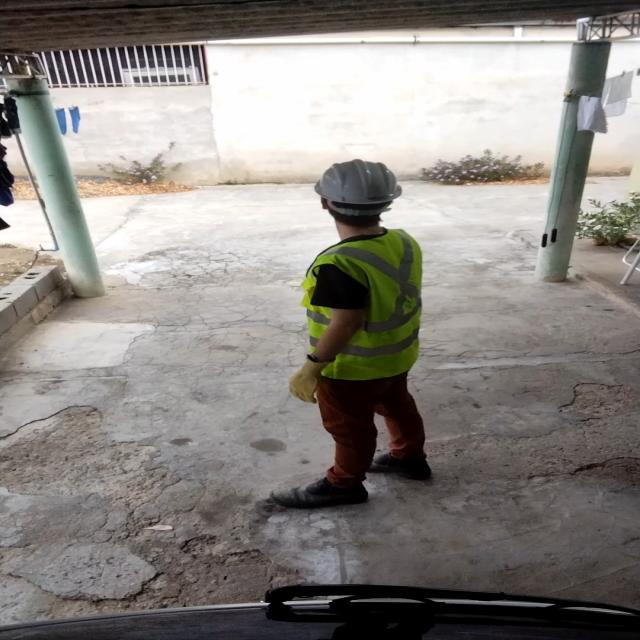glove: (286, 355, 341, 405)
helmet: (304, 157, 407, 216)
pants: (311, 376, 431, 473)
vest: (289, 225, 431, 378)
